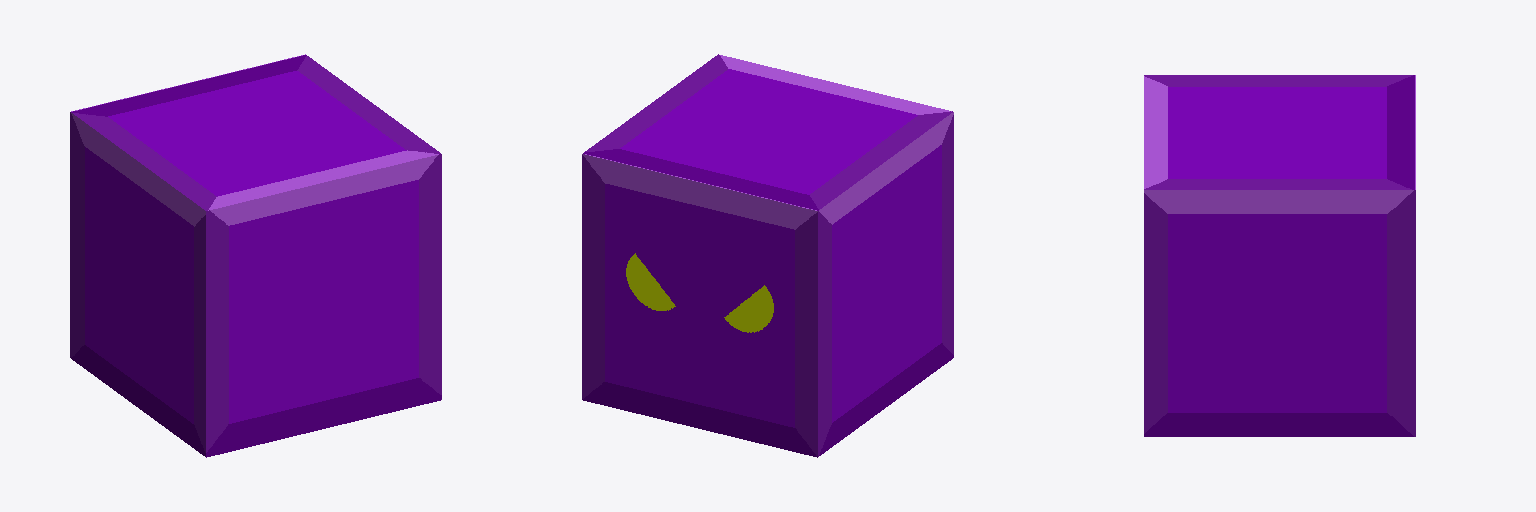
3 views of the same model, side by side, from view 1: azimuth 30°, elevation 25°; view 2: azimuth 150°, elevation 25°; view 3: azimuth 270°, elevation 25° (orthographic).
Parts seen in each view (by area): view 1: Cube; view 2: Cube; view 3: Cube.
Boxes of the visible parts, x1,y1,x2,y2 form: Cube: [70, 54, 441, 457]; Cube: [582, 54, 953, 457]; Cube: [1144, 75, 1415, 436].
Size of the model in its own units: 1 by 1 by 1.
Materials: 1 (1 with a texture image).